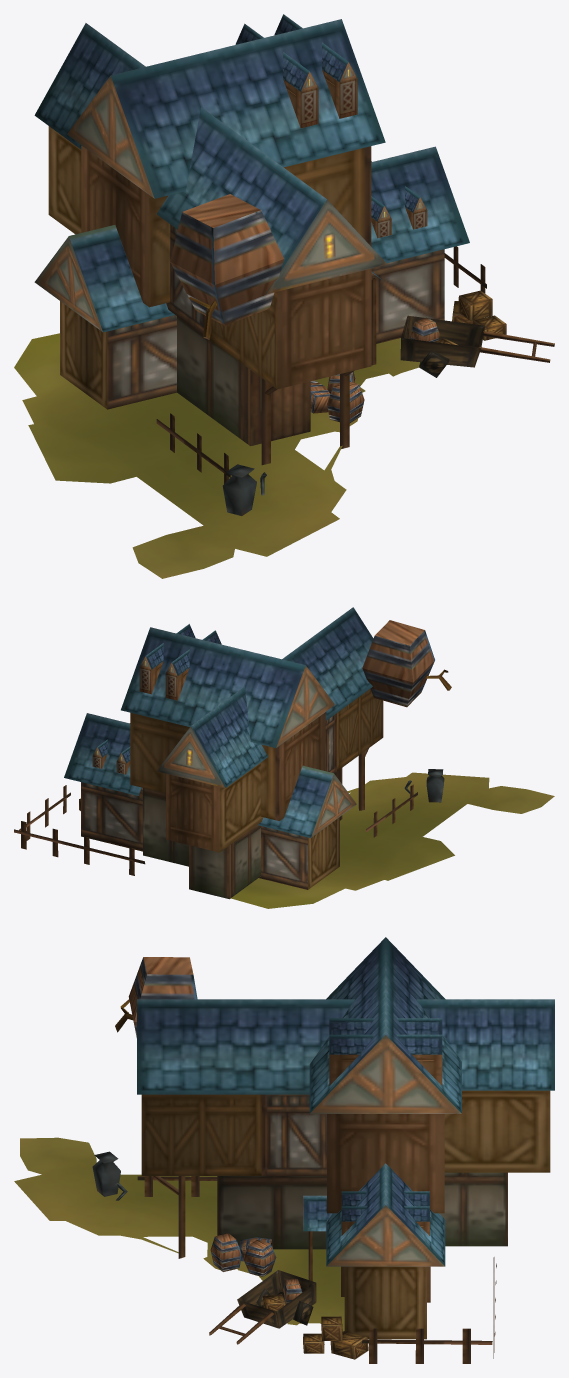
Rendered from Drunkery_Level01.FBX.
The picture shows the model from 3 angles, top to bottom: view 1: azimuth 30°, elevation 25°; view 2: azimuth 150°, elevation 25°; view 3: azimuth 270°, elevation 25°; orthographic projection. The views are drawn at different scales.
Parts seen in each view (by area): view 1: Drunkery_Level01, Drunkery_Level01_a; view 2: Drunkery_Level01, Drunkery_Level01_a; view 3: Drunkery_Level01, Drunkery_Level01_a.
Part boxes in pixels (x1,y1,x2,y2): Drunkery_Level01: (14,14,554,578); Drunkery_Level01_a: (170,194,283,339); Drunkery_Level01: (14,607,554,908); Drunkery_Level01_a: (362,620,451,707); Drunkery_Level01: (14,937,554,1363); Drunkery_Level01_a: (115,957,197,1037).
Size of the model in its own units: 1005 by 581 by 1022.
